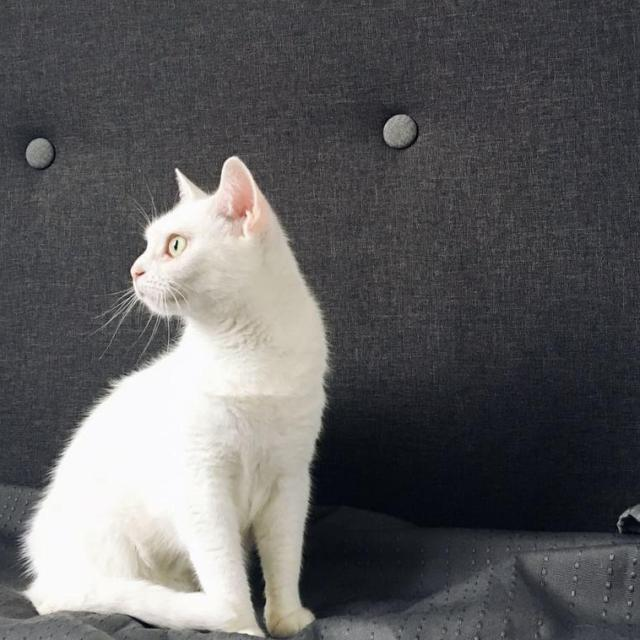Khao Manee: (16, 149, 335, 640)
